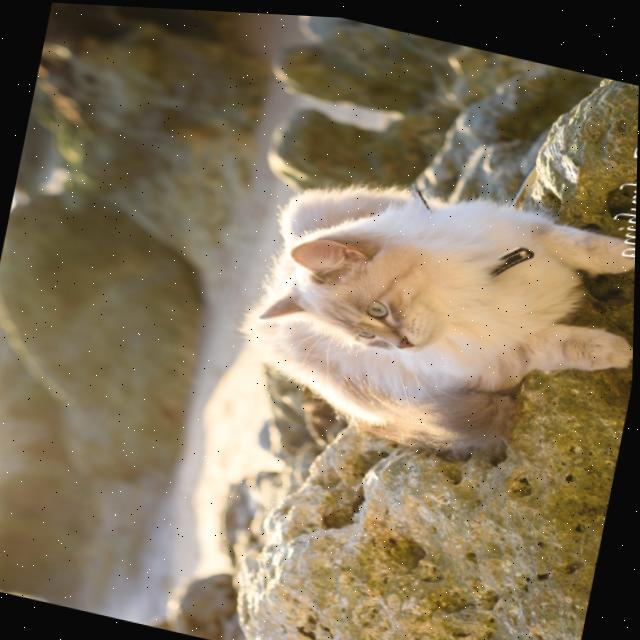Neva Masquerade: (219, 139, 638, 482)
